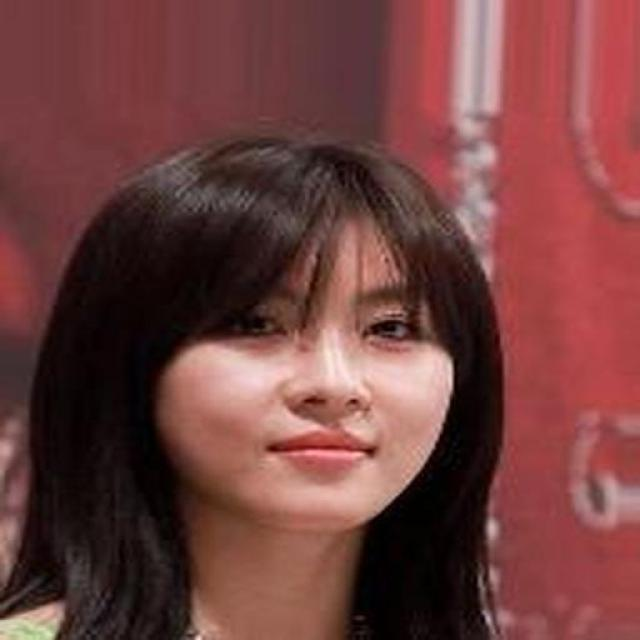bareface: (146, 225, 483, 510)
